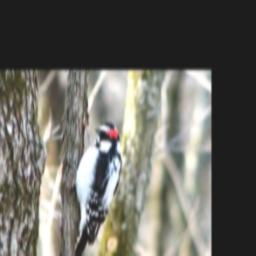Woodpecker: (67, 122, 125, 256)
